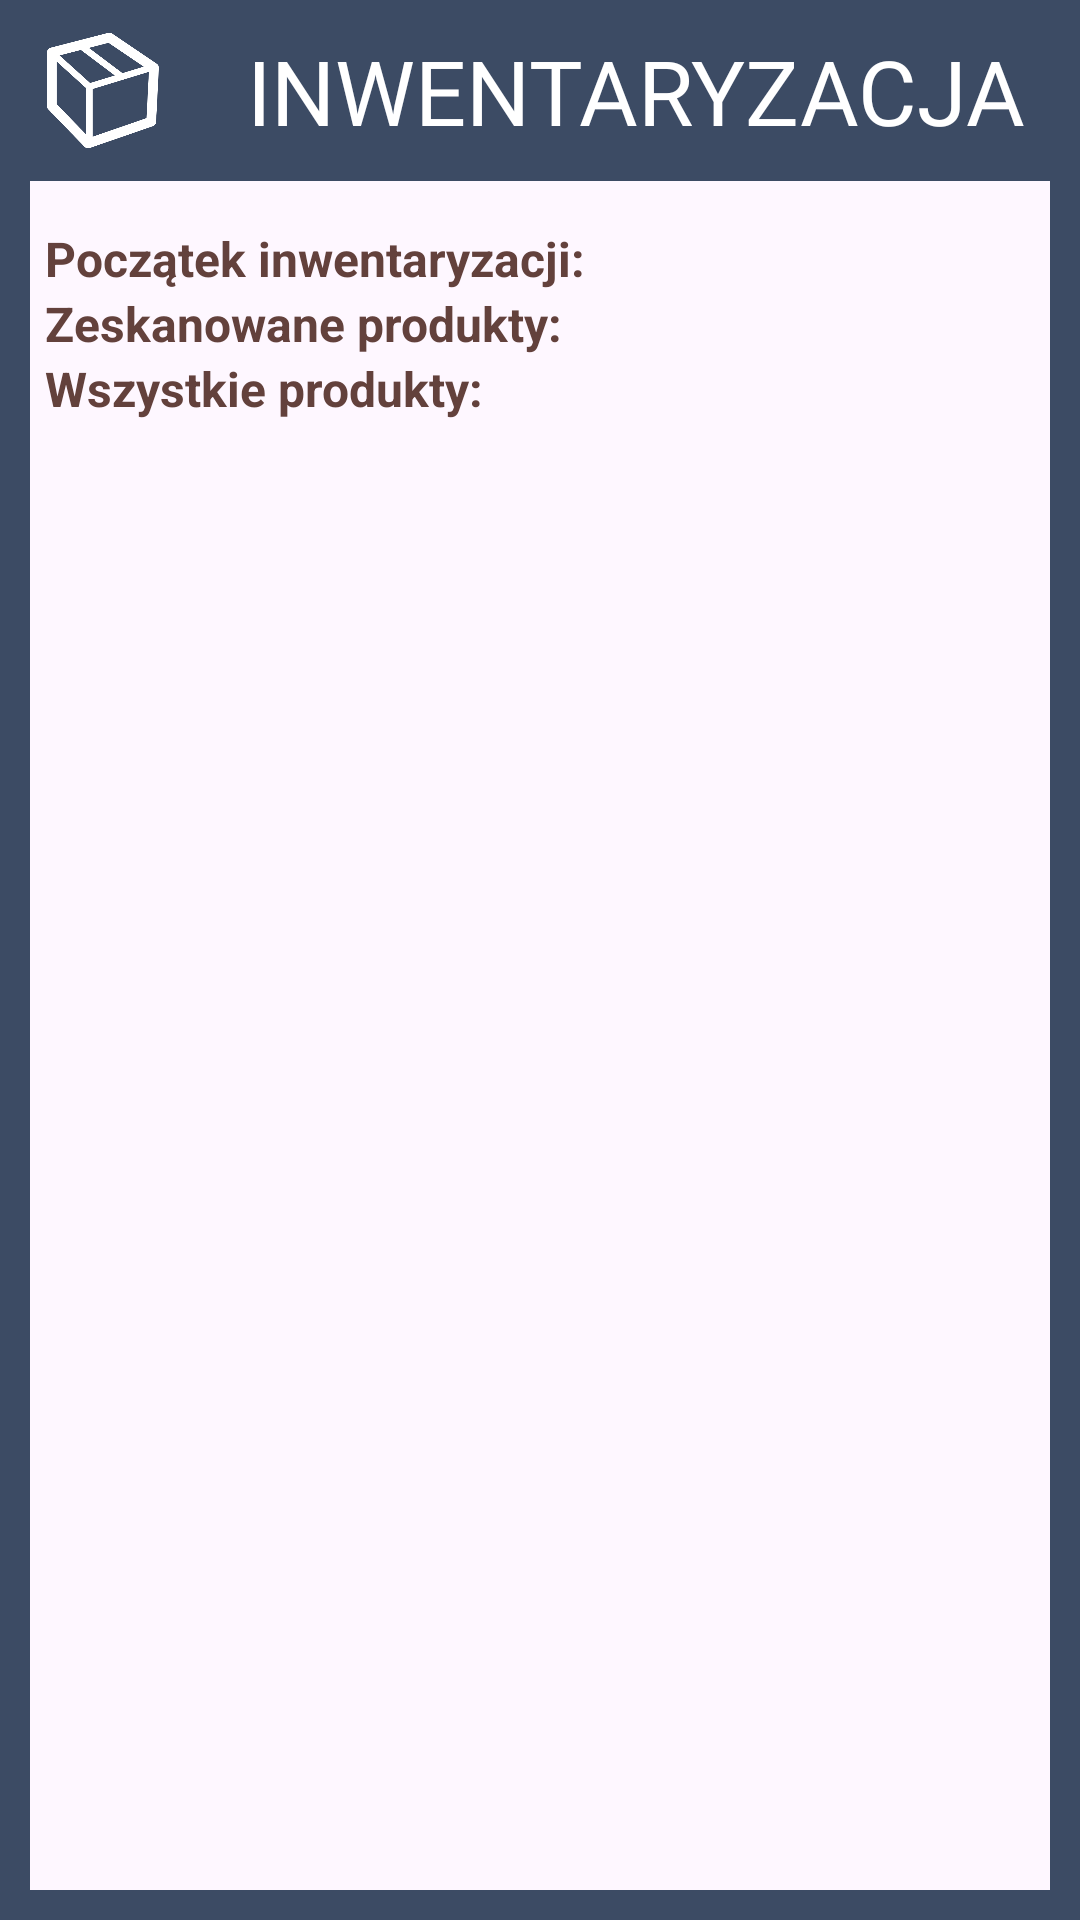

Named icons in this screenshot (1080px×1920px) and their centers, (x=x, y=y):
inwento: (x=103, y=90)
